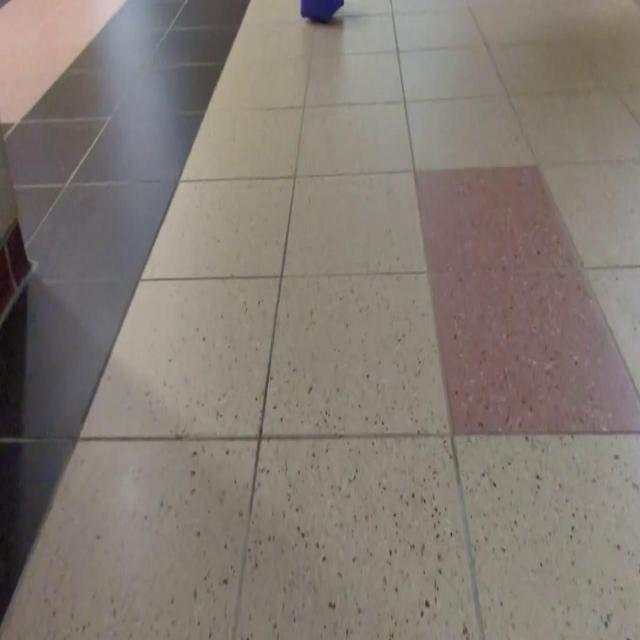frc_cube: (297, 0, 344, 21)
